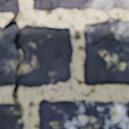brick: (83, 19, 128, 85), (39, 100, 128, 128), (33, 0, 128, 11), (0, 104, 21, 128), (0, 0, 17, 14)
broken_brick: (20, 24, 73, 88), (0, 26, 17, 86)
crack: (0, 0, 26, 128)
